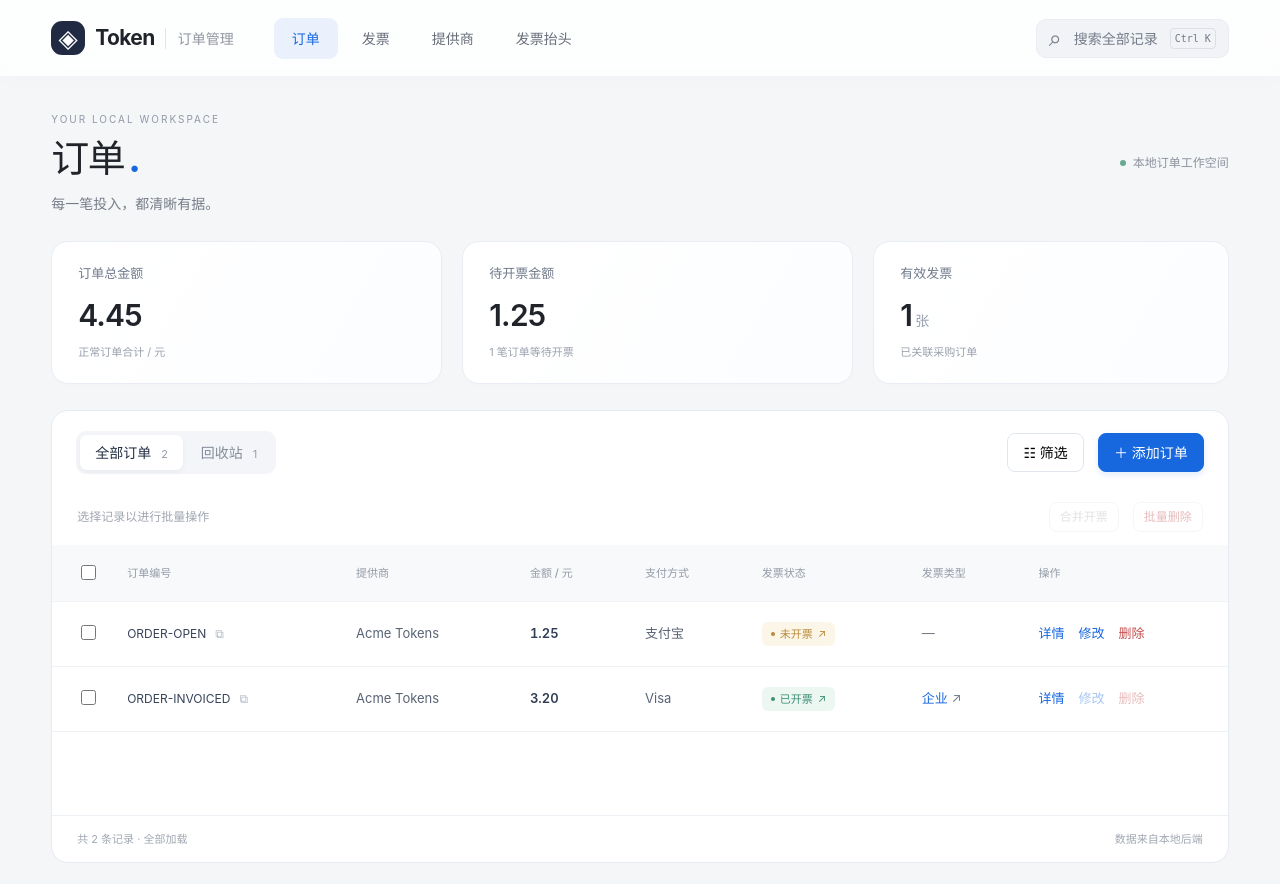
Test case: 正式前端用户交互 › 作废发票后重新加载订单，恢复未开票交互
The width and height of the screenshot is (1280, 884).
Expected: the button "ORDER-OPEN⧉" is shown, [127,625,224,643]
Click the button "发票" at (376, 38), box [344,18,408,58]
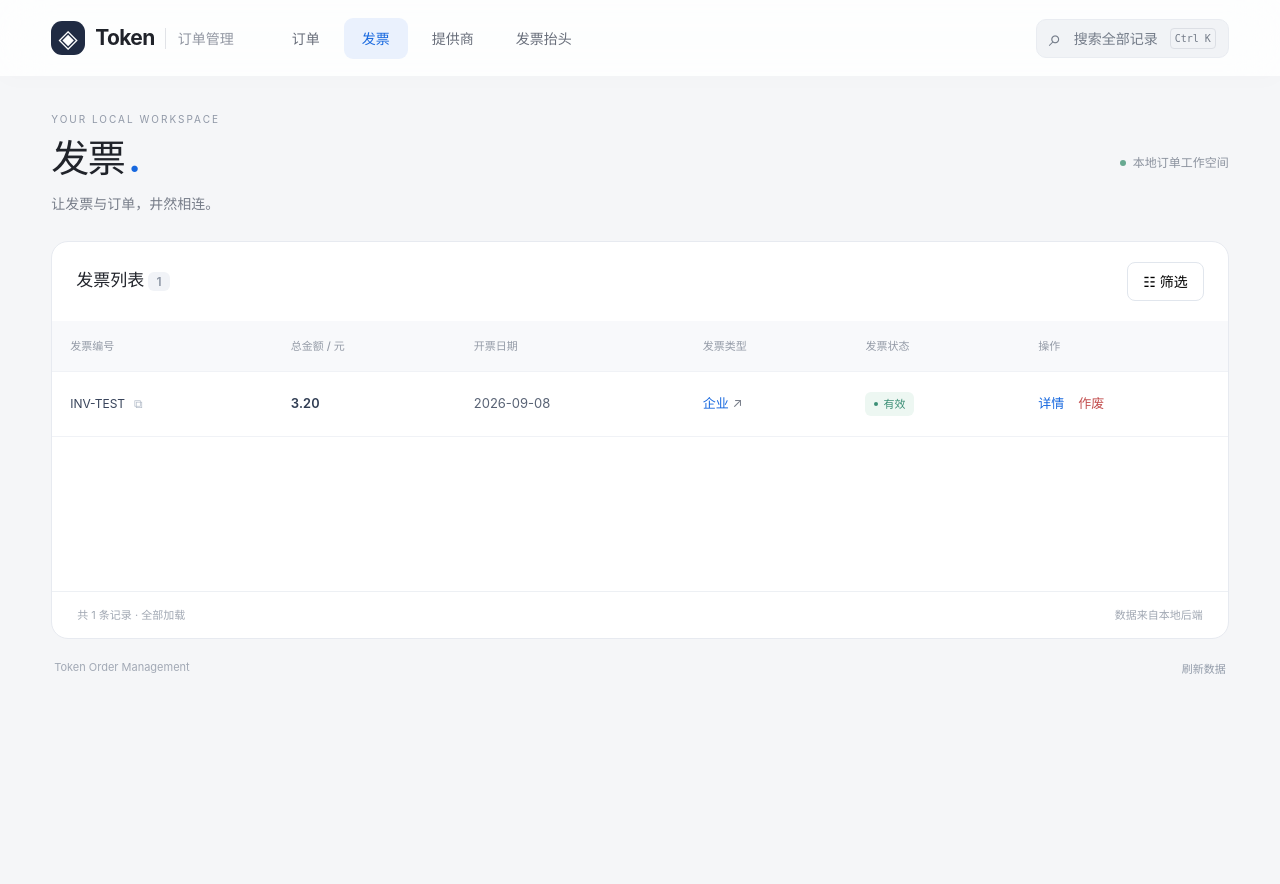
Click the button "作废" at (1091, 404), box [1078,392,1104,416]
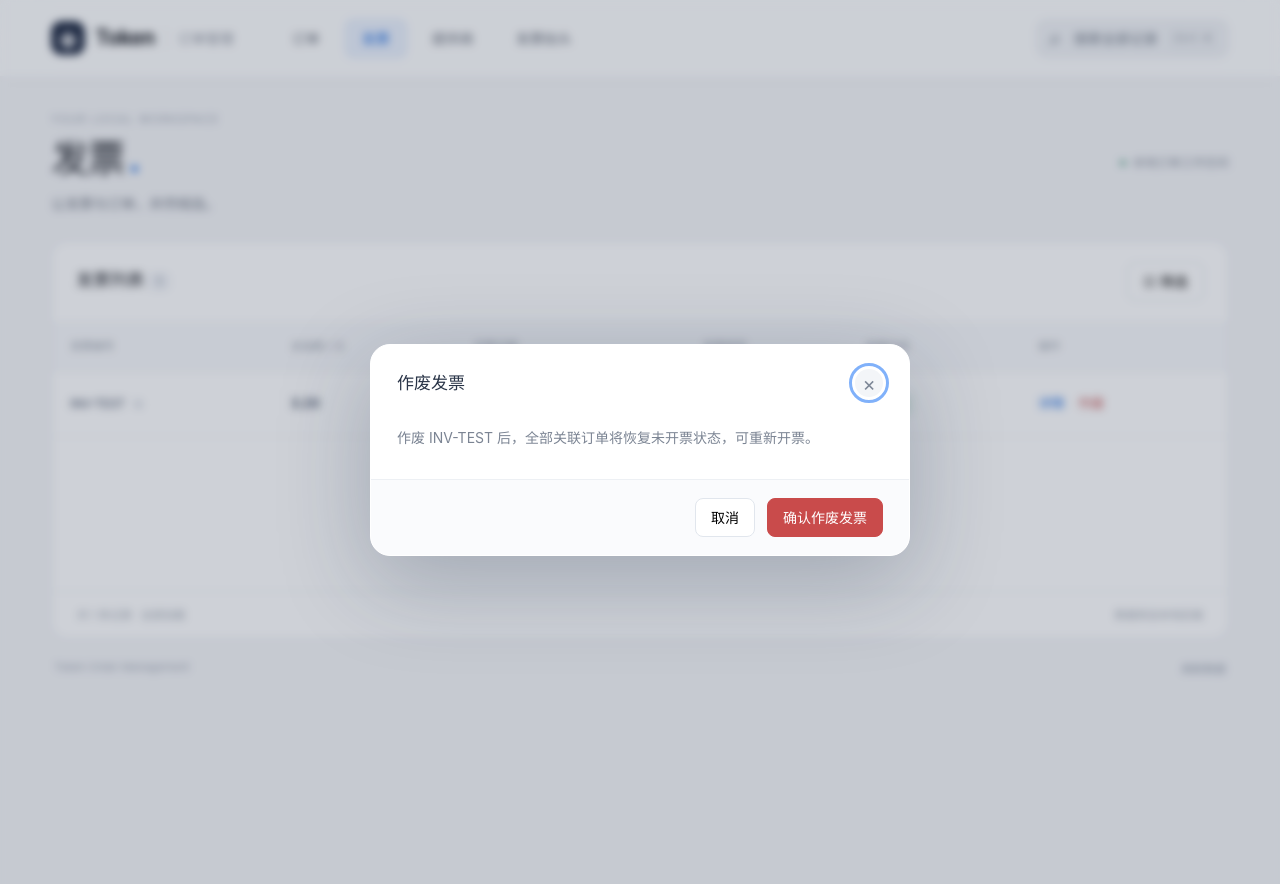
Click the button "确认作废发票" at (825, 517), box [767,498,883,537]
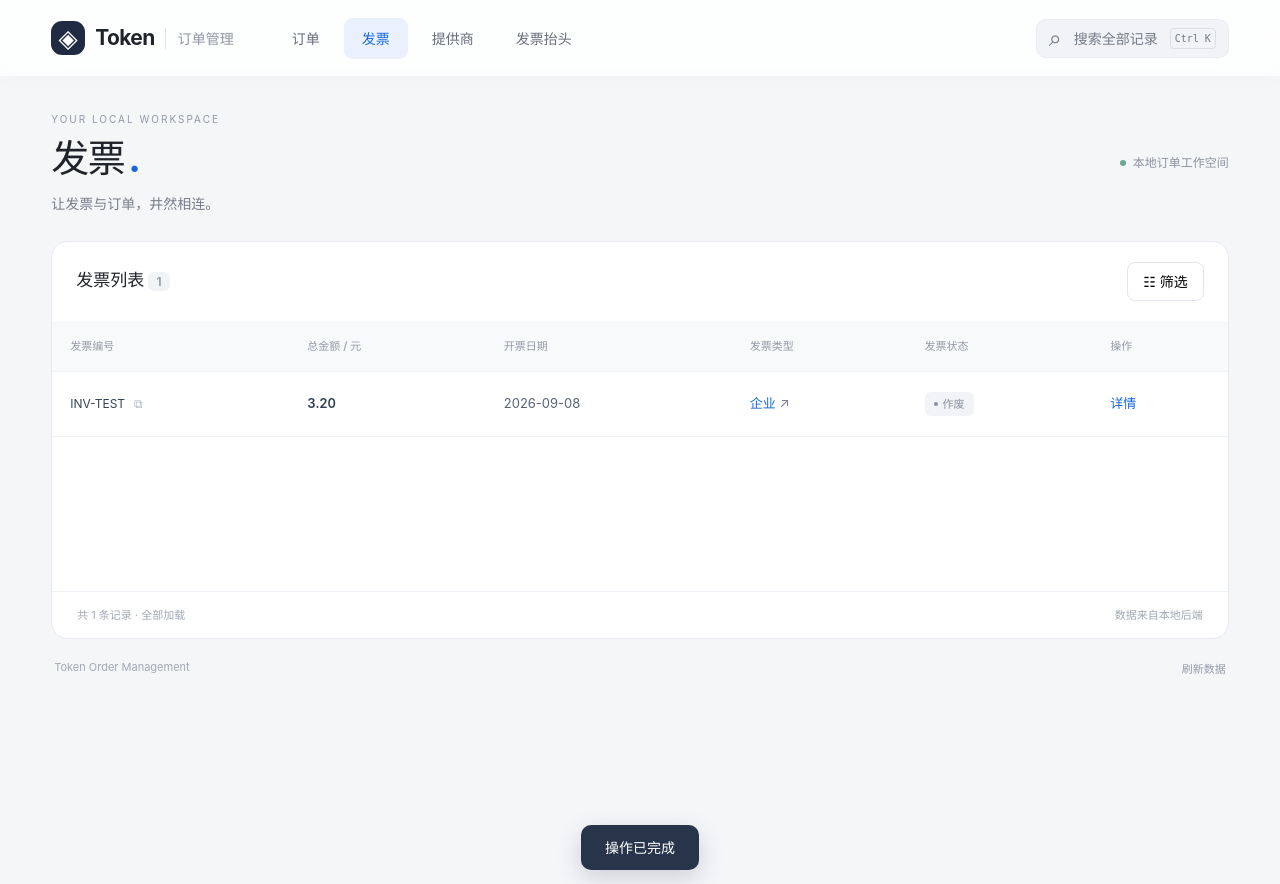
Now the dialog is gone
Click the button "订单" at (306, 38), box [274,18,338,58]
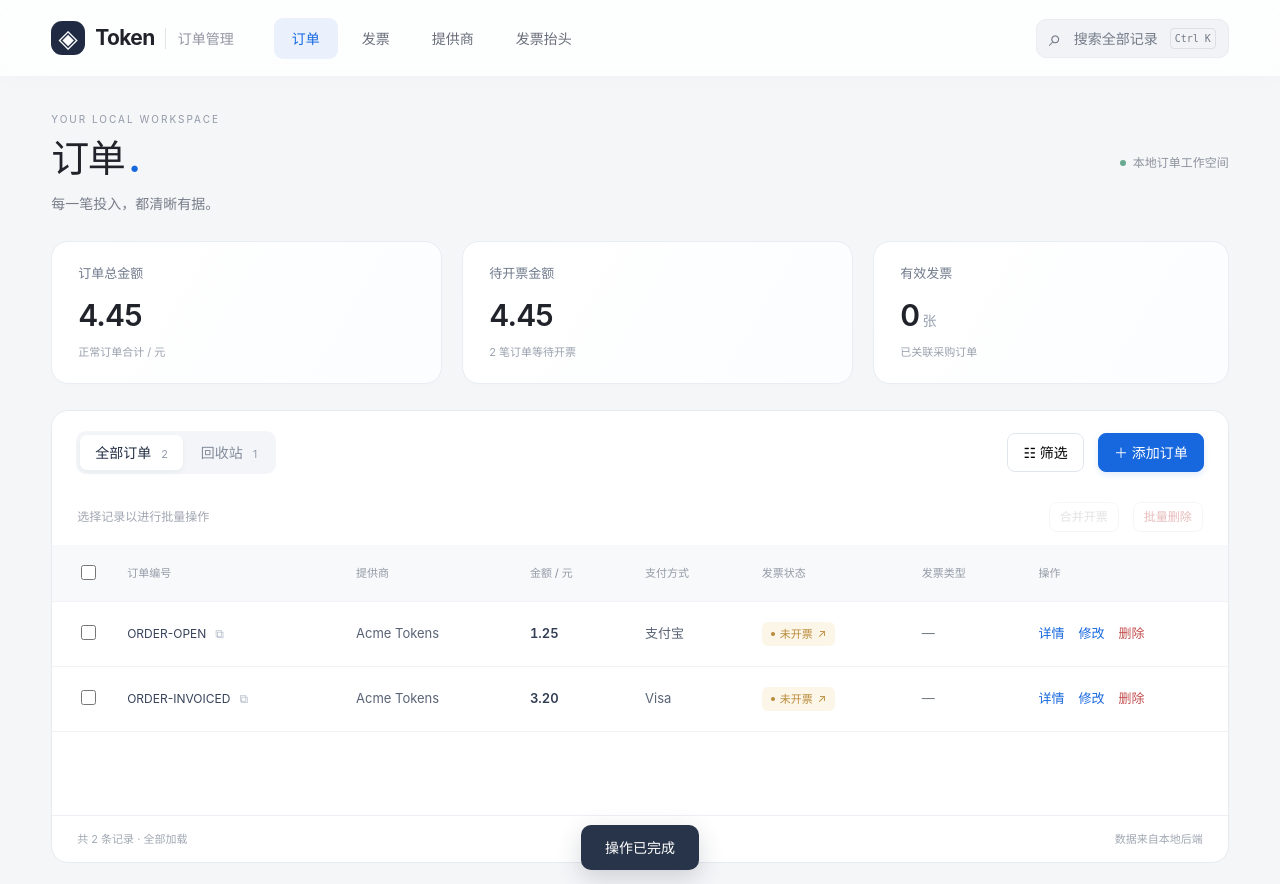
Now the button "未开票 ↗" in the row of "3.20" is shown, box [762,687,835,711]
Now the button "修改" in the row of "3.20" is enabled, box [1078,687,1104,711]
